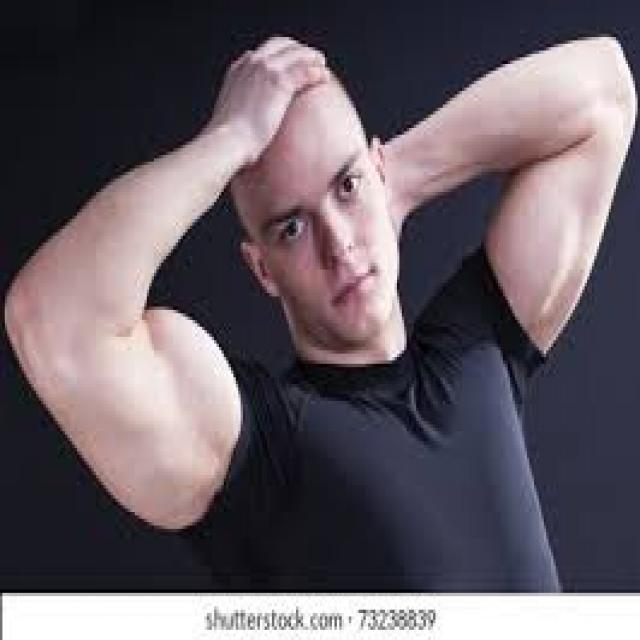bald: (212, 66, 381, 224)
